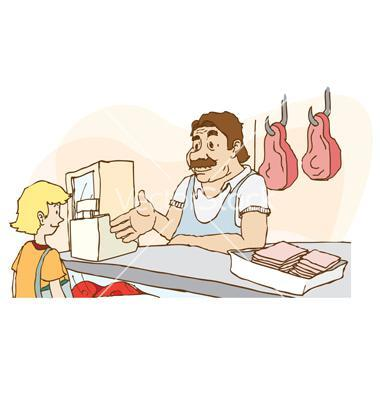person: (108, 108, 272, 253), (7, 177, 76, 298)
